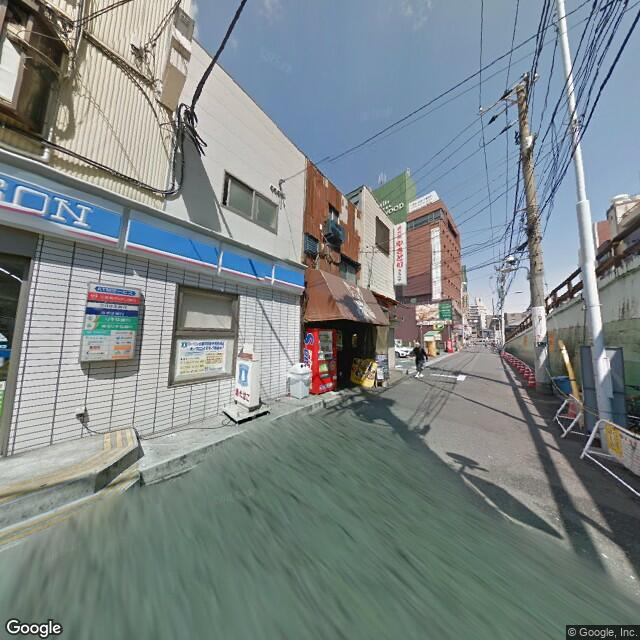lawson: (1, 159, 308, 294)
